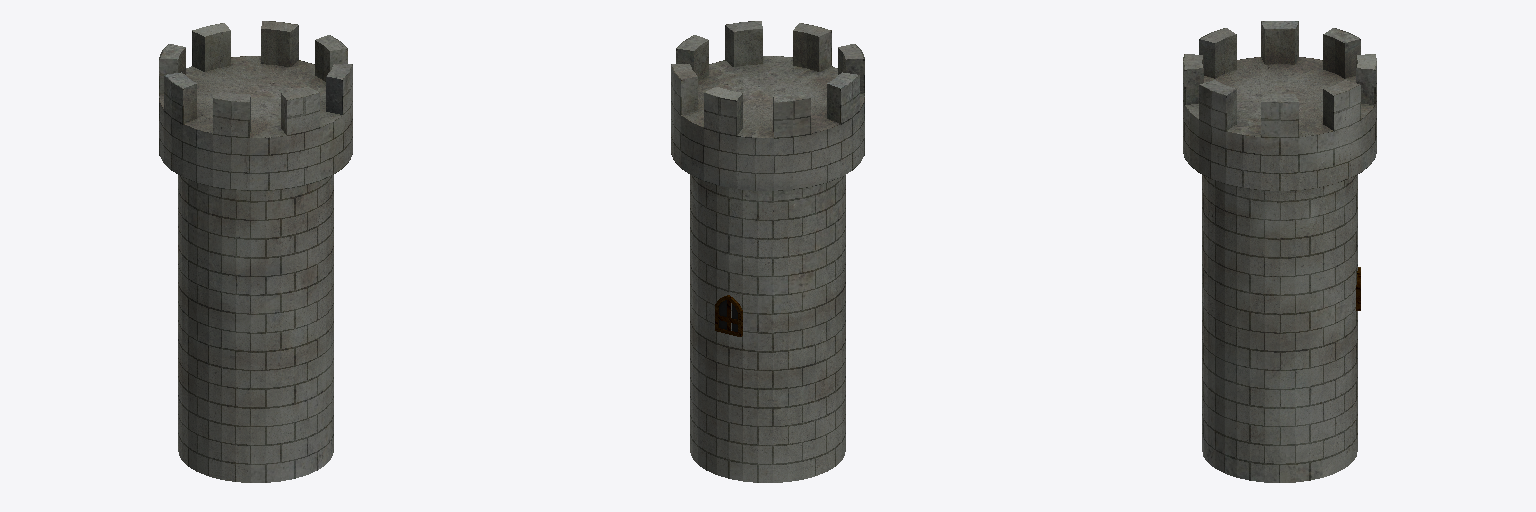
3 renders of one model, left to right at view 1: azimuth 30°, elevation 25°; view 2: azimuth 150°, elevation 25°; view 3: azimuth 270°, elevation 25°, orthographic.
Visible parts, largest first — view 1: castle-tower1; view 2: castle-tower1; view 3: castle-tower1.
Boxes of the visible parts, x1,y1,x2,y2 form: castle-tower1: [159, 21, 352, 482]; castle-tower1: [671, 21, 864, 482]; castle-tower1: [1183, 21, 1376, 482].
Bounding box in the file's own units: 4.5 × 9.9 × 4.5.
1 materials, 1 textured.